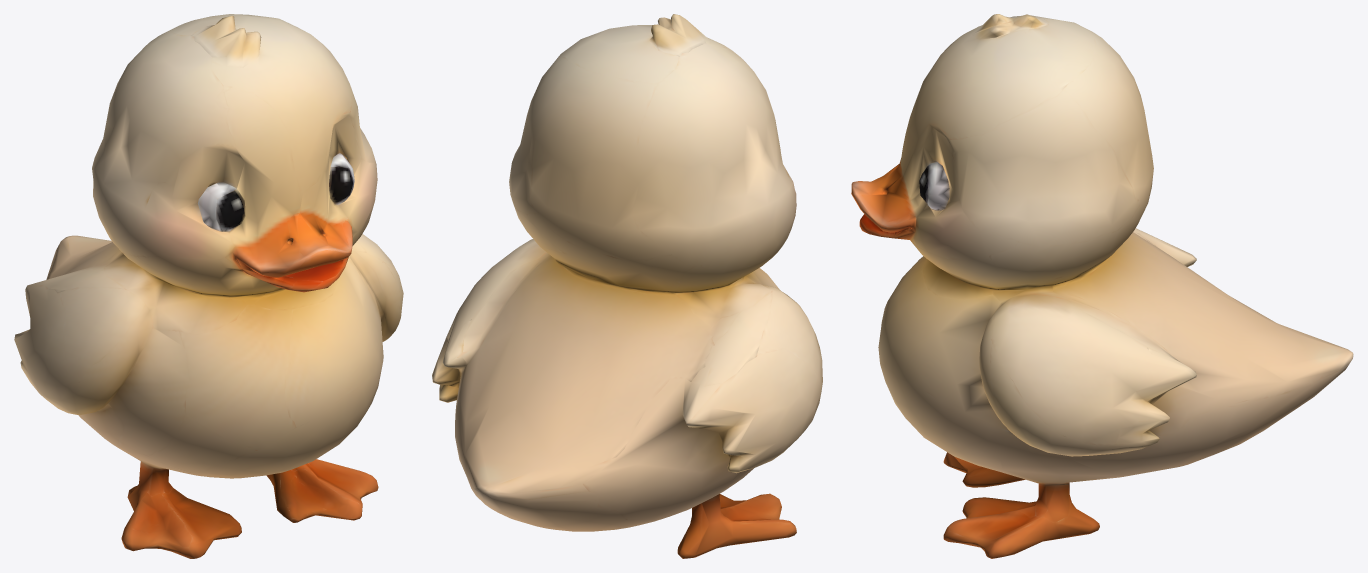
The model's file is lifecycle_duck_baby.glb.
The picture shows the model from 3 angles, left to right: view 1: azimuth 30°, elevation 25°; view 2: azimuth 150°, elevation 25°; view 3: azimuth 270°, elevation 25°; orthographic projection. The views are drawn at different scales.
Parts seen in each view (by area): view 1: node_0; view 2: node_0; view 3: node_0.
Part boxes in pixels (bbox=[...]): node_0: bbox=[14, 14, 403, 558]; node_0: bbox=[432, 14, 822, 558]; node_0: bbox=[851, 14, 1353, 558].
Bounding box in the file's own units: 0.7197 × 0.9927 × 0.9333.
Materials: 1 (1 with a texture image).
